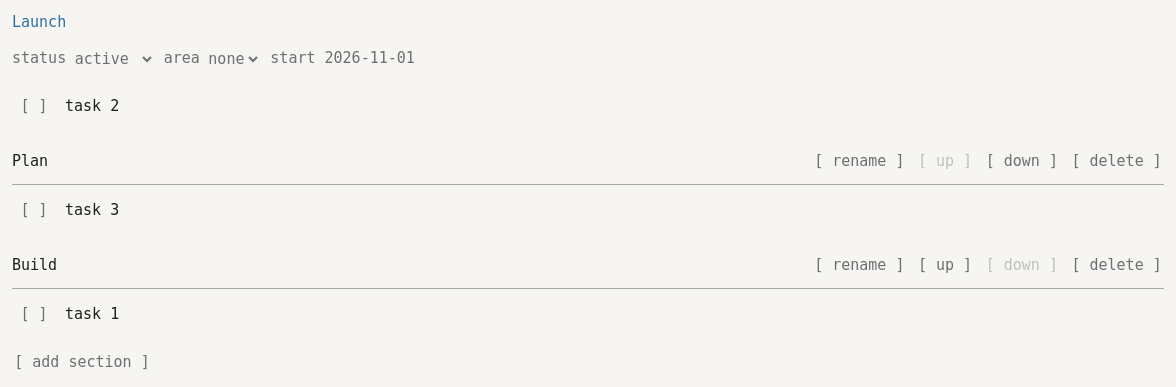
Test: sections › [ up ]/[ down ] move a section; the ends are disabled
Expected: the heading "Launch" is shown, [12,13,66,31]
Expected: the button "[ up ]" in the row of "Plan" is disabled, [916,140,974,184]
Click the button "[ up ]" in the row of "Build".
click(945, 266)  # box [916,244,974,288]
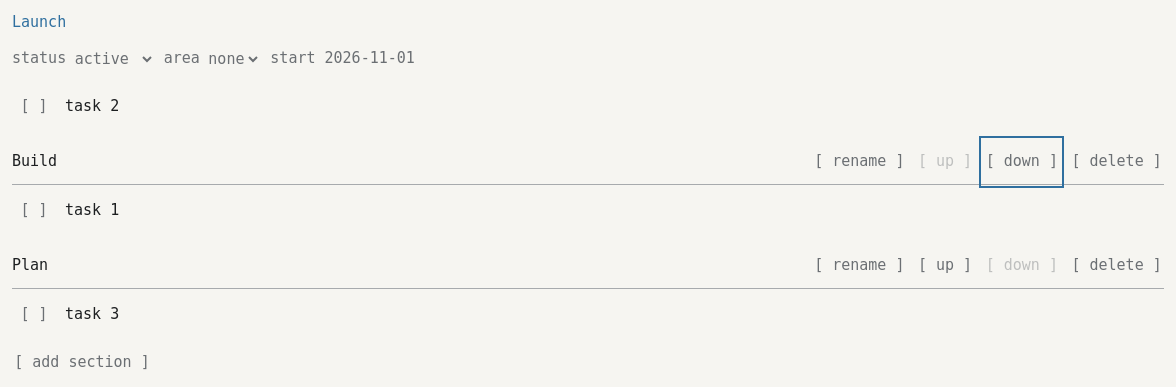
Expected: the list item "[ ] task 1" is shown, [12,188,119,232]
Expected: the headings read "Build", "Plan", in this order, [12,152,57,170]; [12,256,48,274]
